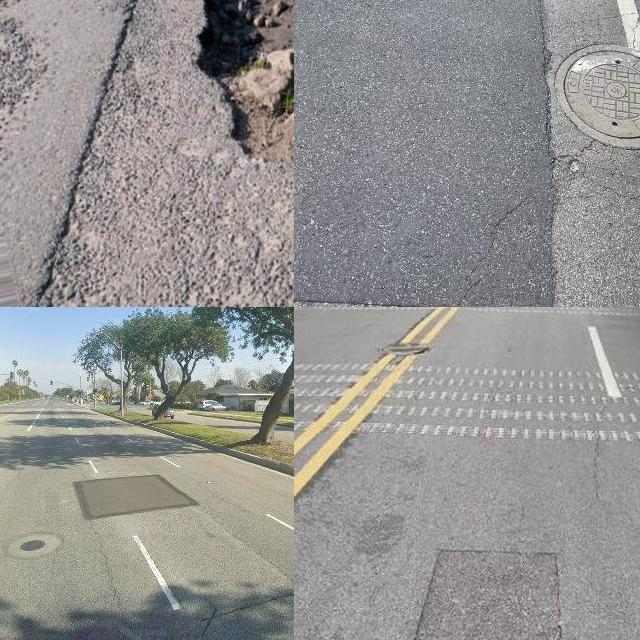Lubang: (567, 44, 640, 144)
Pinggir: (185, 0, 294, 212)
Sambungan: (294, 0, 556, 307), (74, 470, 200, 525)
